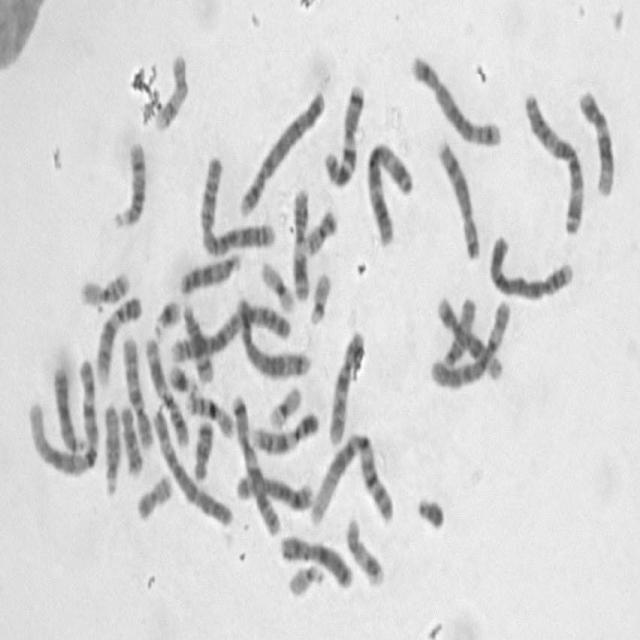A1: (25, 353, 102, 478), (307, 427, 396, 526)
A2: (196, 149, 279, 256), (167, 299, 293, 365)
A3: (520, 85, 586, 237), (364, 133, 416, 248)
B4: (235, 82, 327, 219), (484, 228, 577, 304)
B5: (407, 48, 504, 149), (232, 291, 311, 380)
C10: (326, 323, 368, 448), (118, 329, 154, 450)
C11: (141, 331, 190, 449), (289, 182, 313, 302)
C12: (431, 292, 506, 386), (575, 82, 617, 197)
C6: (150, 403, 234, 530), (429, 293, 510, 388)
C7: (228, 389, 282, 538), (321, 77, 367, 189)
C8: (433, 133, 482, 263), (233, 467, 315, 513)
C9: (93, 289, 144, 387), (248, 406, 321, 458)
D13: (49, 360, 86, 455), (176, 246, 242, 296)
D14: (110, 134, 149, 231), (179, 296, 216, 385)
D15: (439, 293, 477, 371), (100, 397, 122, 497)
E16: (182, 388, 236, 440), (78, 265, 132, 307)
E17: (343, 512, 387, 588), (152, 47, 190, 133)
E18: (117, 399, 145, 477), (189, 413, 215, 482)
F19: (257, 256, 296, 314), (265, 380, 304, 431)
F20: (134, 468, 175, 523), (302, 202, 341, 258)
G21: (150, 293, 182, 341), (164, 358, 200, 395)
G22: (306, 265, 334, 327), (285, 558, 326, 599)
X: (276, 529, 354, 590)
Y: (414, 490, 447, 531)
